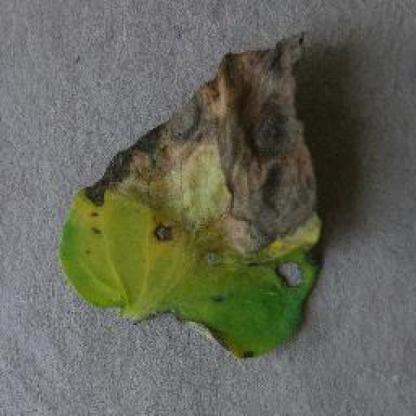Tomato_Blight: (59, 43, 321, 356)
